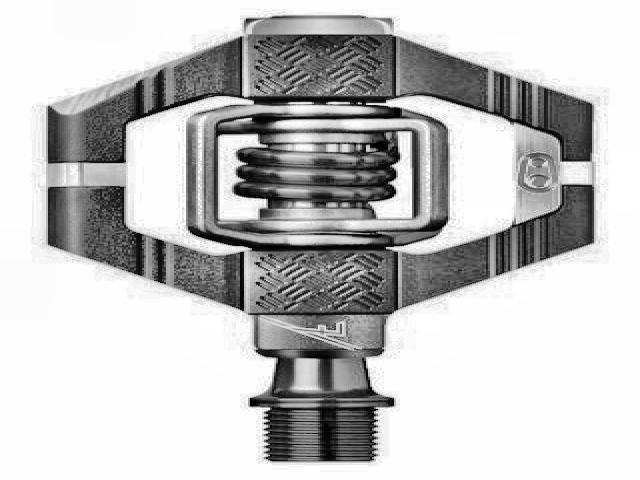pedal: (42, 12, 604, 463)
